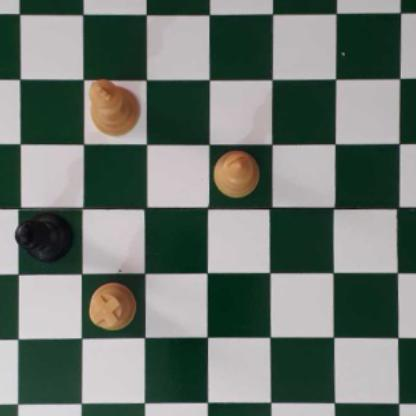black-king: (14, 213, 78, 261)
white-bishop: (213, 150, 257, 197)
white-king: (91, 75, 136, 136)
white-rook: (87, 281, 136, 329)
